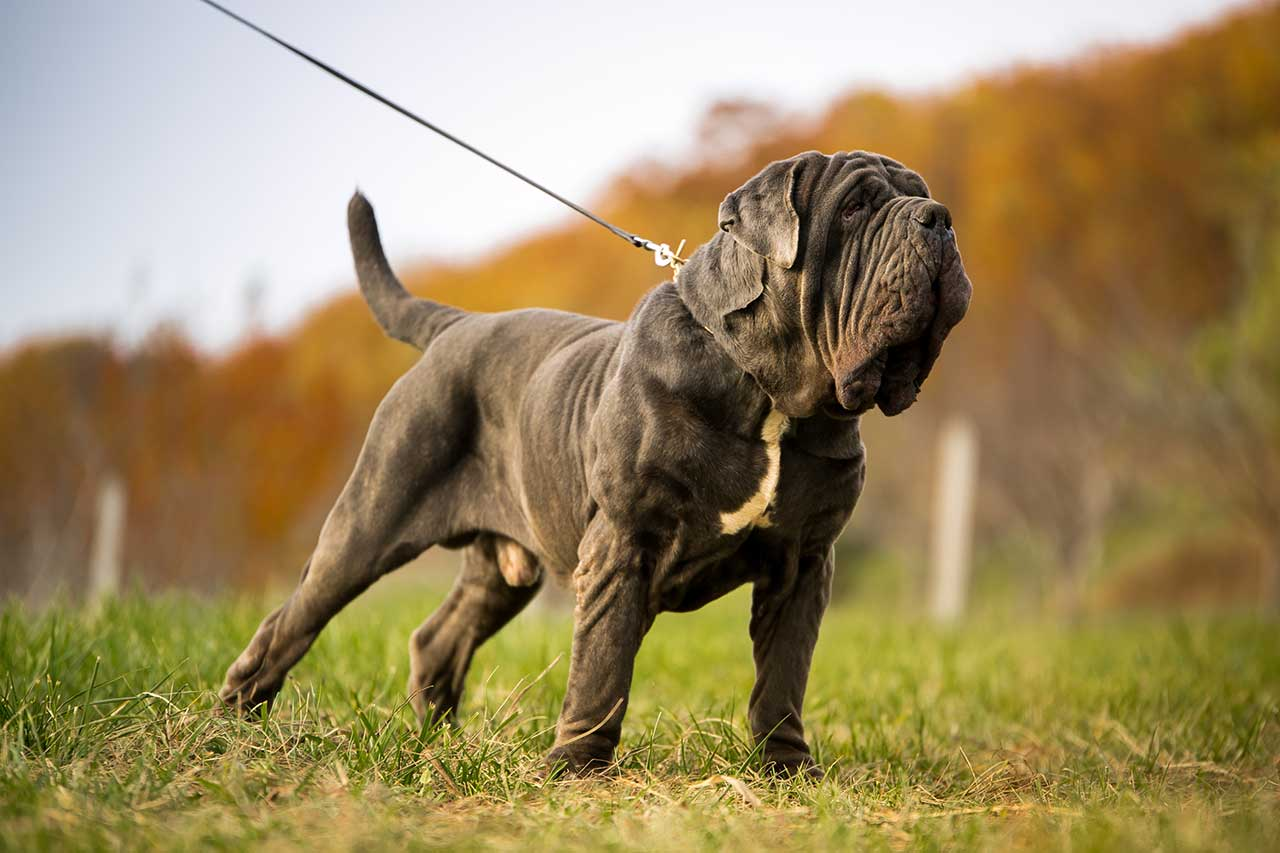neapolitan_mastiff: (212, 147, 973, 777)
